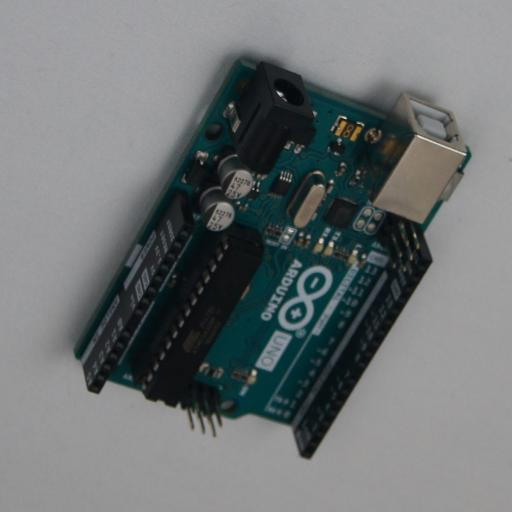Arduino Uno -Green-: (72, 53, 471, 459)
